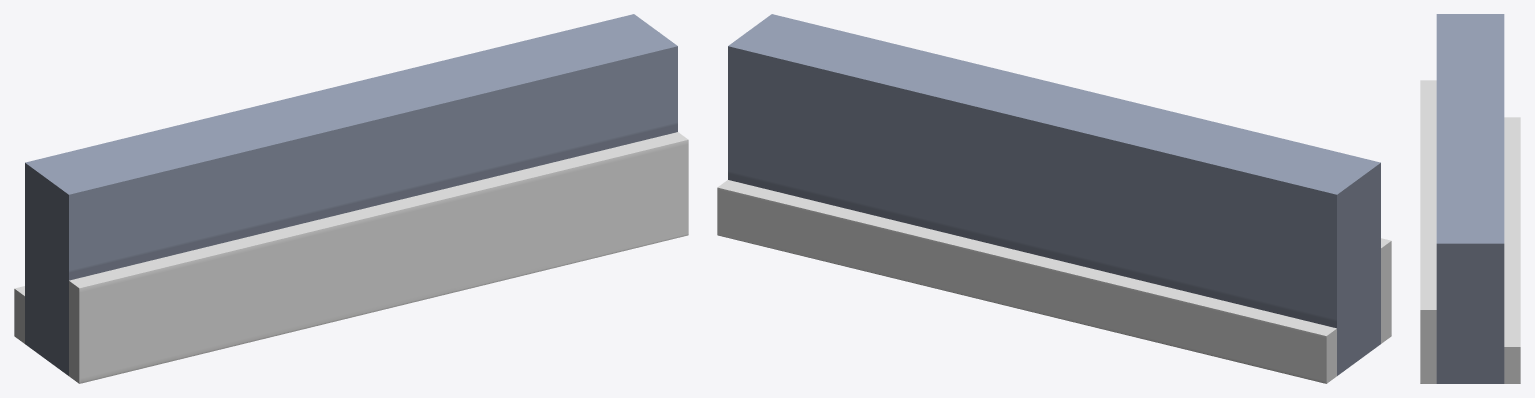
The model's file is office_pack_demoRoom_wall_small_visible.fbx.
The picture shows the model from 3 angles, left to right: view 1: azimuth 30°, elevation 25°; view 2: azimuth 150°, elevation 25°; view 3: azimuth 270°, elevation 25°; orthographic projection. The views are drawn at different scales.
Visible parts, largest first — view 1: office_pack_demoRoom_wall_small_visible; view 2: office_pack_demoRoom_wall_small_visible; view 3: office_pack_demoRoom_wall_small_visible.
Boxes of the visible parts, left/top/right/bottom form: office_pack_demoRoom_wall_small_visible: left=14, top=14, right=688, bottom=383; office_pack_demoRoom_wall_small_visible: left=717, top=14, right=1391, bottom=383; office_pack_demoRoom_wall_small_visible: left=1420, top=14, right=1520, bottom=383.
Bounding box in the file's own units: 100 × 28.46 × 18.5.
